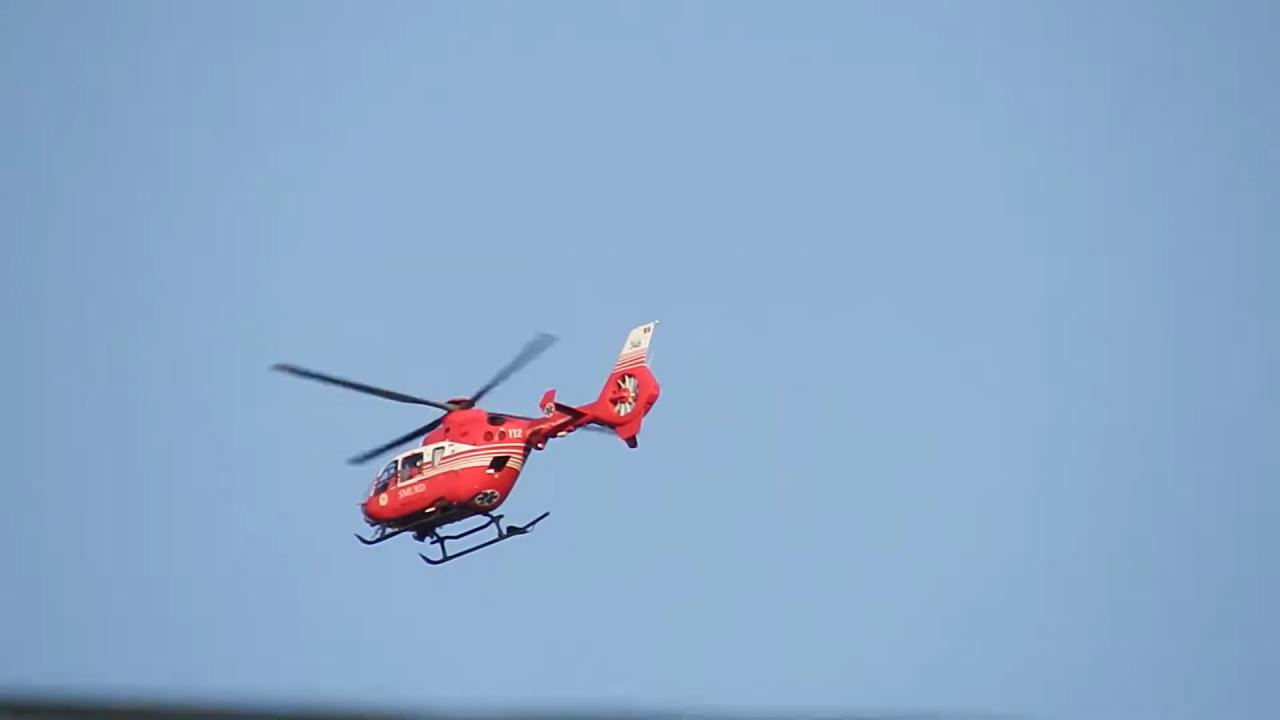Helicopter: (261, 303, 676, 572)
